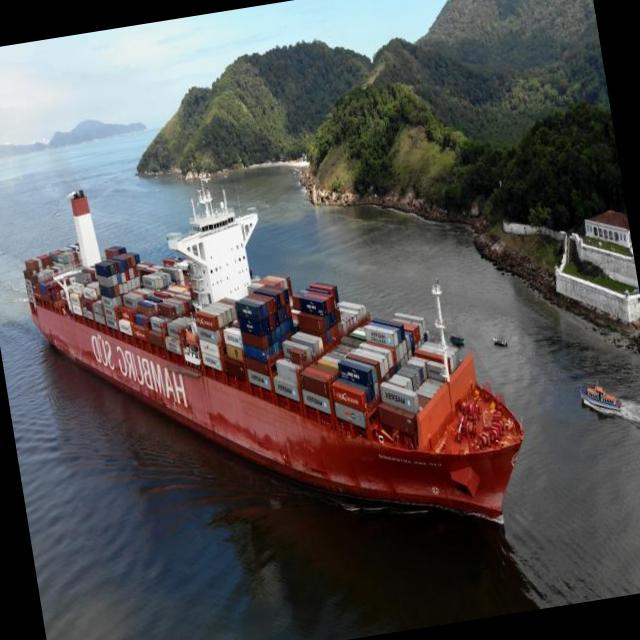Cargo: (25, 187, 523, 523)
